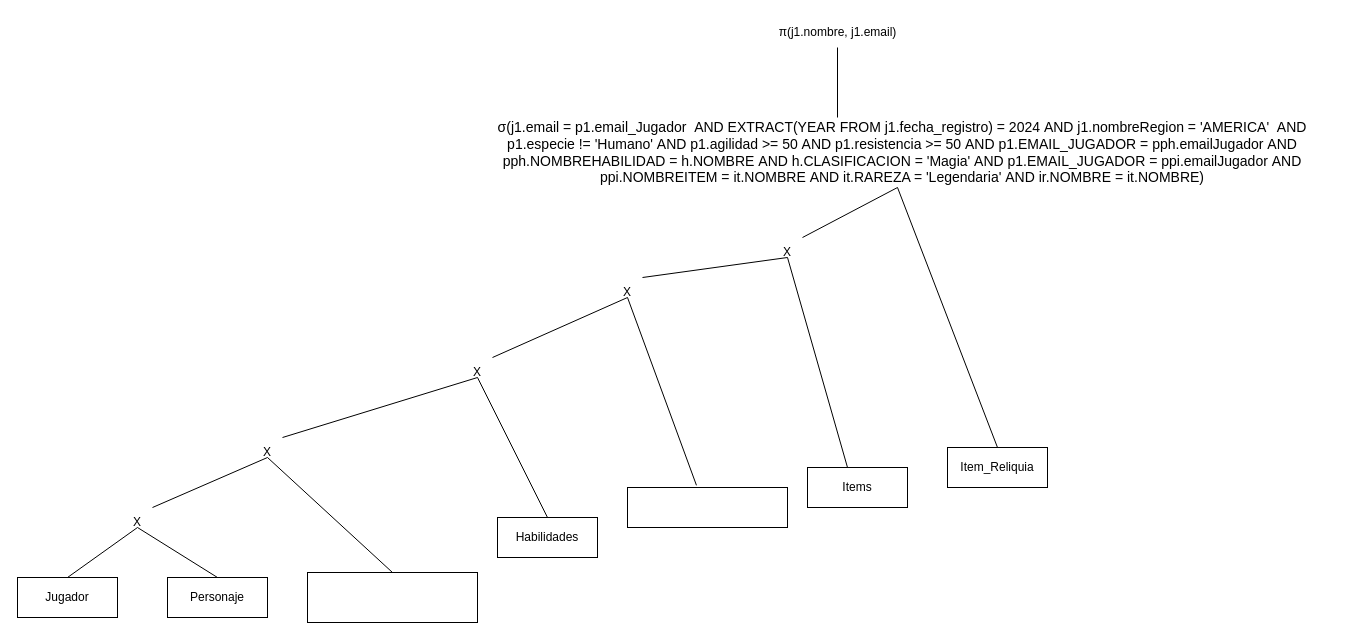
The diagram is 1345 pixels wide and 640 high, and some of its shapes have lost their labels. Here are the shapes that lost their labels. From the top down, the centre of each, then its label:
the point at 707,507: Personaje_Posee_Items
the point at 392,597: Personaje_Posee_Habilidades
